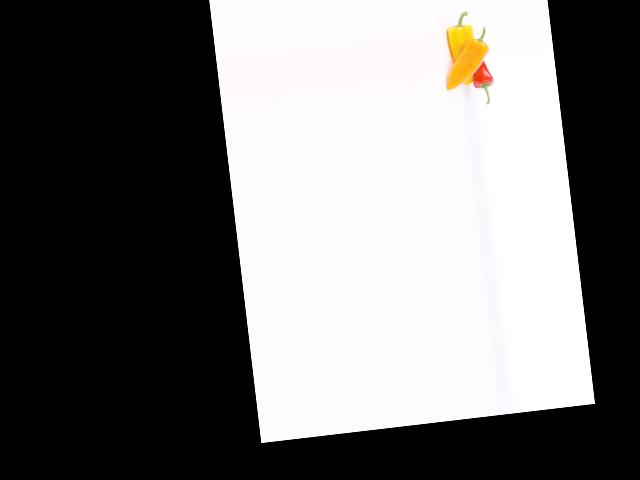bell_pepper: (438, 8, 480, 69)
